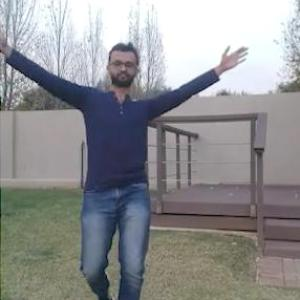takeoff: (0, 37, 254, 299)
